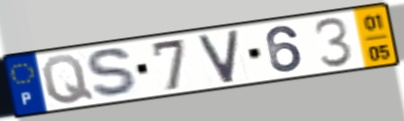3: (313, 16, 355, 69)
6: (264, 24, 306, 75)
7: (149, 38, 190, 92)
Q: (39, 53, 97, 106)
S: (84, 46, 143, 100)
V: (195, 27, 241, 86)
